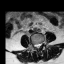CCS_normal: (37, 41, 38, 50)
LFS_normal: (40, 39, 43, 46)
LLS_normal: (38, 41, 40, 49)
RFS_normal: (33, 41, 35, 49)
RLS_normal: (35, 41, 37, 49)
